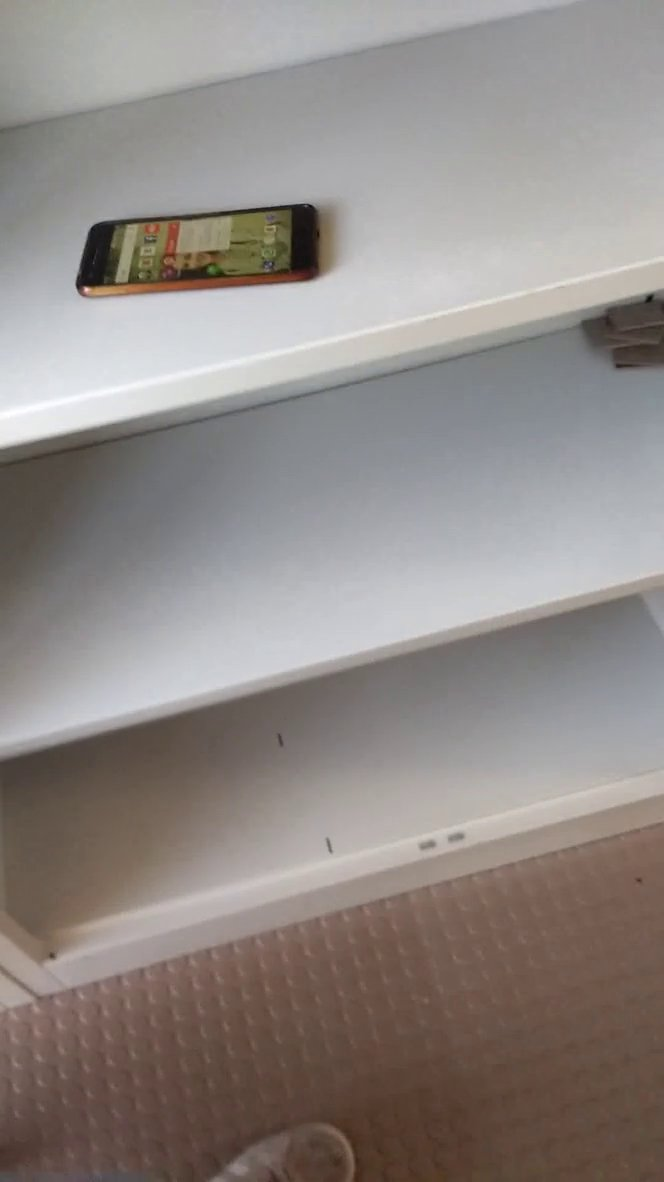phone: (62, 191, 344, 308)
